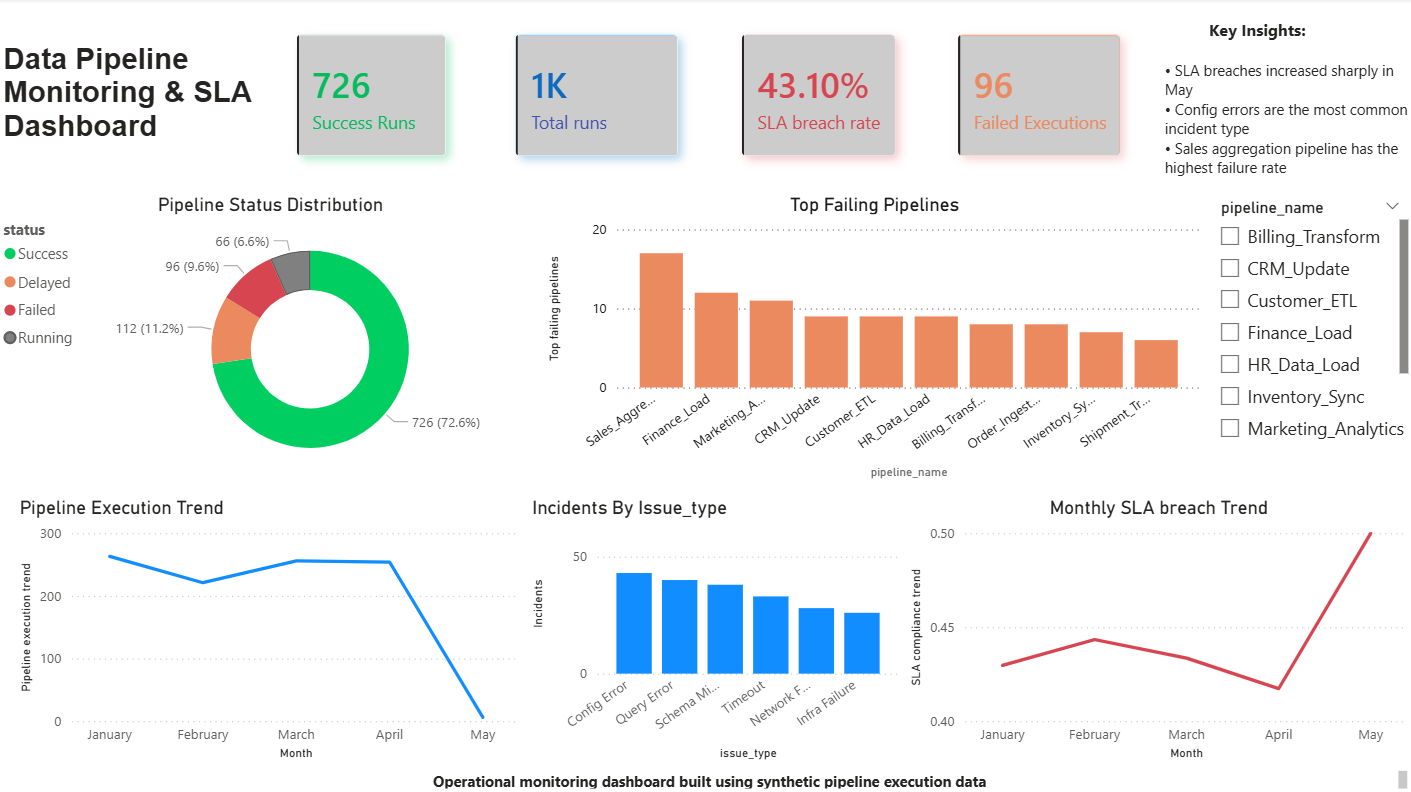

The dashboard page shown, as its layout file describes it:
{"tool":"powerbi","page":{"name":"Page 1","canvas":[1280,720],"ordinal":0},"visuals":[{"type":"cardVisual","fields":{"Data":["pipeline_runs.Success Runs"]},"box":[237.2,0,201.2,176.7],"z":0},{"type":"cardVisual","fields":{"Data":["pipeline_runs.Total runs"]},"box":[434.9,0,214,176.7],"z":1000},{"type":"cardVisual","fields":{"Data":["sla_tracking.SLA breach %"]},"box":[639.5,0,205.8,176.7],"z":2000},{"type":"cardVisual","fields":{"Data":["pipeline_runs.Failed Runs"]},"box":[836,0,214,176.7],"z":3000},{"type":"lineChart","title":"Pipeline Execution Trend","fields":{"Category":["pipeline_runs.run_date.Variation.Date Hierarchy.Month","pipeline_runs.run_date.Variation.Date Hierarchy.Day"],"Y":["pipeline_runs.Total runs"]},"box":[15.1,451.2,462.8,243],"z":4000},{"type":"lineChart","title":"Monthly SLA breach Trend","fields":{"Category":["pipeline_runs.run_date.Variation.Date Hierarchy.Month","pipeline_runs.run_date.Variation.Date Hierarchy.Day"],"Y":["sla_tracking.SLA breach %"]},"box":[819.8,451.2,460.5,243],"z":5000},{"type":"donutChart","title":"Pipeline Status Distribution","fields":{"Category":["pipeline_runs.status"],"Y":["CountNonNull(sla_tracking.run_id)"]},"box":[0,176.7,493,264],"z":6000},{"type":"clusteredColumnChart","title":"Top Failing Pipelines","fields":{"Y":["pipeline_runs.Failed Runs"],"Category":["pipelines.pipeline_name"]},"box":[493,176.7,600,264],"z":7000},{"type":"clusteredColumnChart","title":"Incidents By Issue_type","fields":{"Category":["incidents.issue_type"],"Y":["CountNonNull(incidents.incident_id)"]},"box":[477.9,451.2,341.9,243],"z":8000},{"type":"slicer","fields":{"Values":["pipelines.pipeline_name"]},"box":[1093,176.7,187.2,230.2],"z":9000},{"type":"textbox","box":[0,0,267.4,176.7],"z":10000},{"type":"textbox","box":[1050,14,230.2,162.8],"z":11000},{"type":"textbox","box":[15.1,694.2,1265.1,25.6],"z":12000}]}

Visuals, with their boxes in screenshot pixels (x1, y1, x2, y2), scaled from the page's 1280x720 canvas onto the 1411x792 screenshot:
cardVisual - pipeline_runs.Success Runs: [261, 0, 483, 194]
cardVisual - pipeline_runs.Total runs: [479, 0, 715, 194]
cardVisual - sla_tracking.SLA breach %: [705, 0, 932, 194]
cardVisual - pipeline_runs.Failed Runs: [922, 0, 1157, 194]
"Pipeline Execution Trend" lineChart: [17, 496, 527, 764]
"Monthly SLA breach Trend" lineChart: [904, 496, 1410, 764]
"Pipeline Status Distribution" donutChart: [0, 194, 543, 485]
"Top Failing Pipelines" clusteredColumnChart: [543, 194, 1205, 485]
"Incidents By Issue_type" clusteredColumnChart: [527, 496, 904, 764]
slicer - pipelines.pipeline_name: [1205, 194, 1410, 448]
textbox: [0, 0, 295, 194]
textbox: [1157, 15, 1410, 194]
textbox: [17, 764, 1410, 791]
